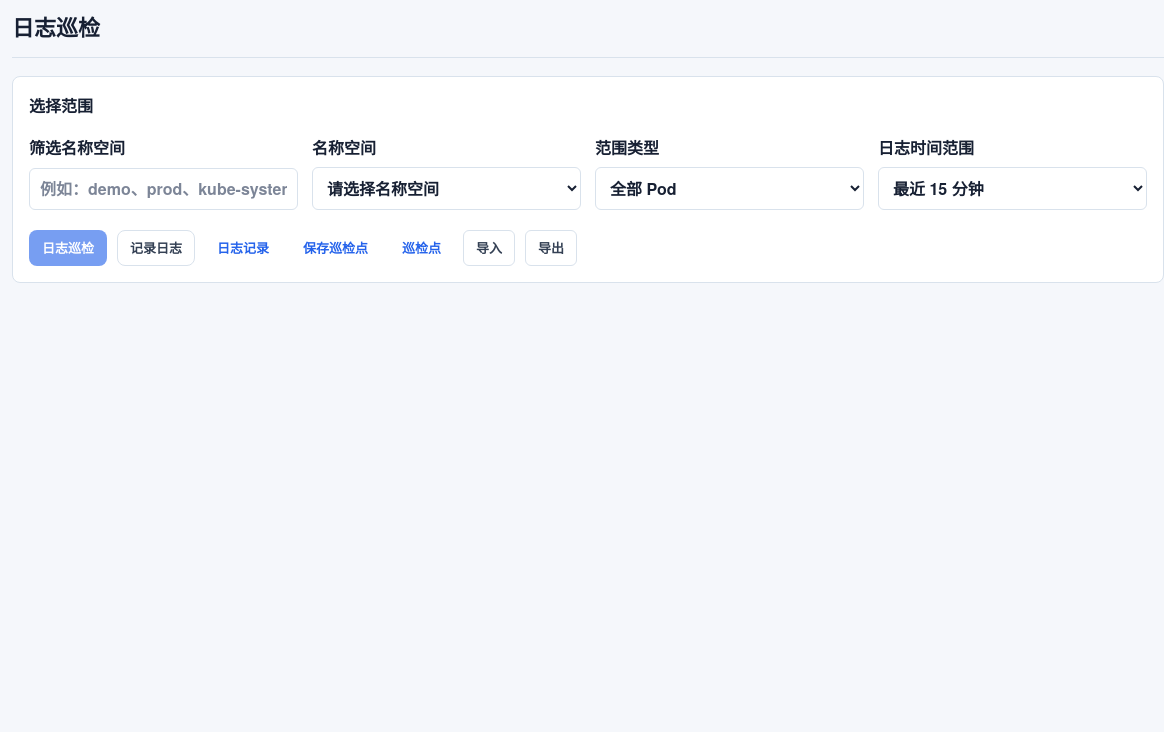
Test case: PodInspectionPage › presents log inspection as healthy when no log keyword is hit
Select "demo" in the dropdown labelled "名称空间" at (446, 188), box [312, 167, 581, 210]
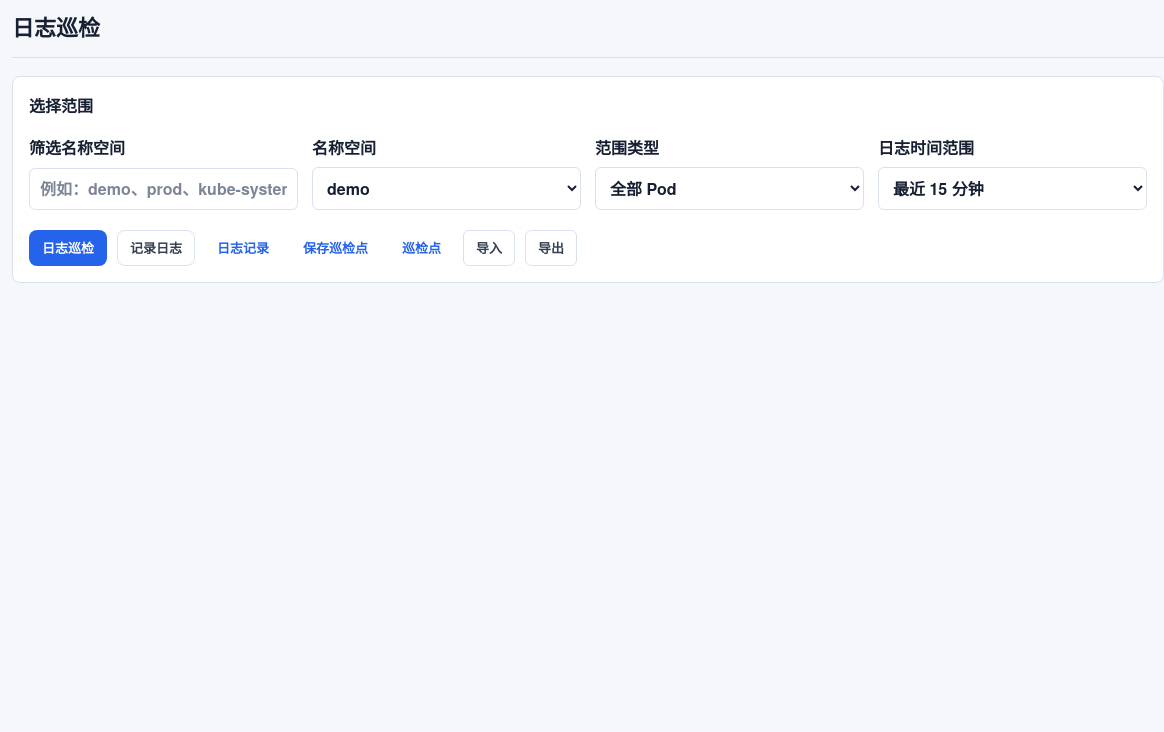
Click the button "日志巡检" at (68, 248), box [29, 230, 107, 266]
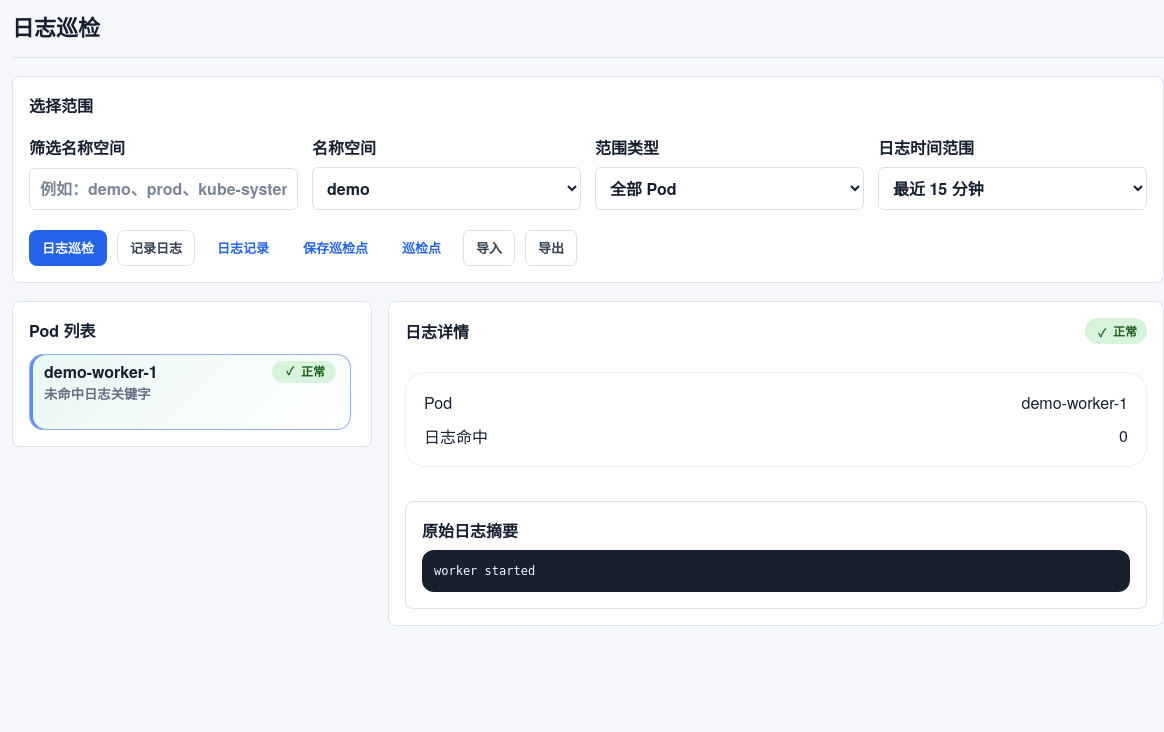
Check: the text "正常" below "Pod 列表" is shown, box [301, 362, 325, 380]
